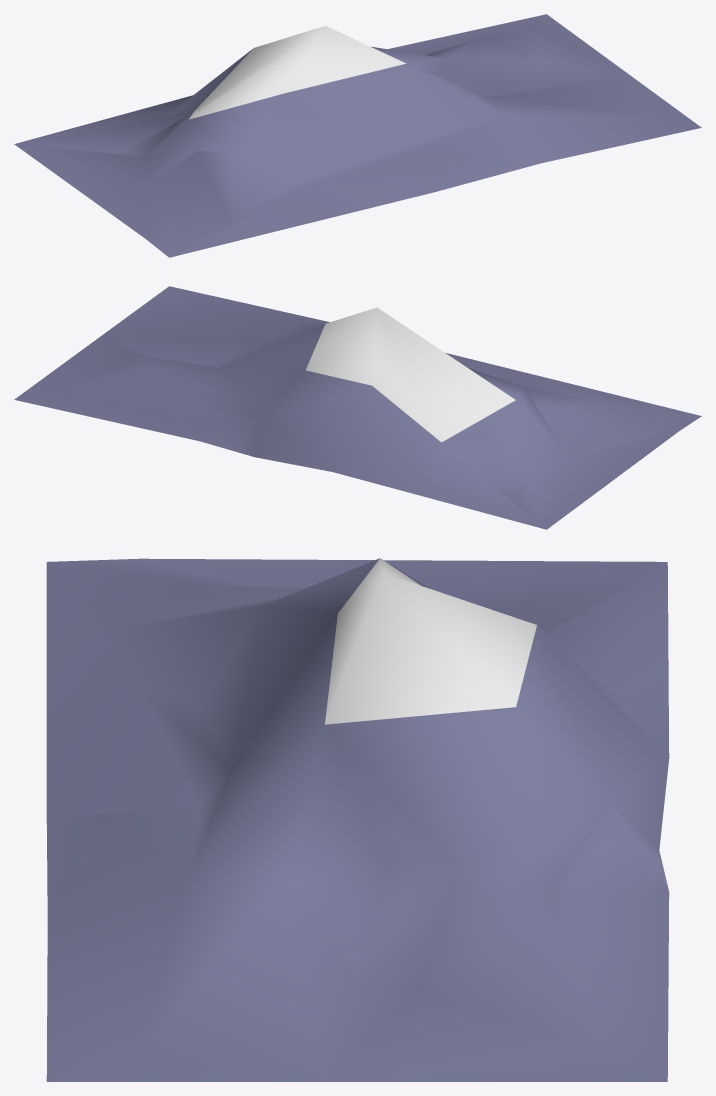
File: Mountain3.fbx
The picture shows the model from 3 angles, top to bottom: view 1: azimuth 30°, elevation 25°; view 2: azimuth 150°, elevation 25°; view 3: azimuth 270°, elevation 25°; orthographic projection. The views are drawn at different scales.
Visible parts, largest first — view 1: Mountain3; view 2: Mountain3; view 3: Mountain3.
Boxes of the visible parts, x1,y1,x2,y2 form: Mountain3: (14,14,701,257); Mountain3: (14,286,701,529); Mountain3: (46,558,669,1081).
Size of the model in its own units: 401 by 88.99 by 203.
